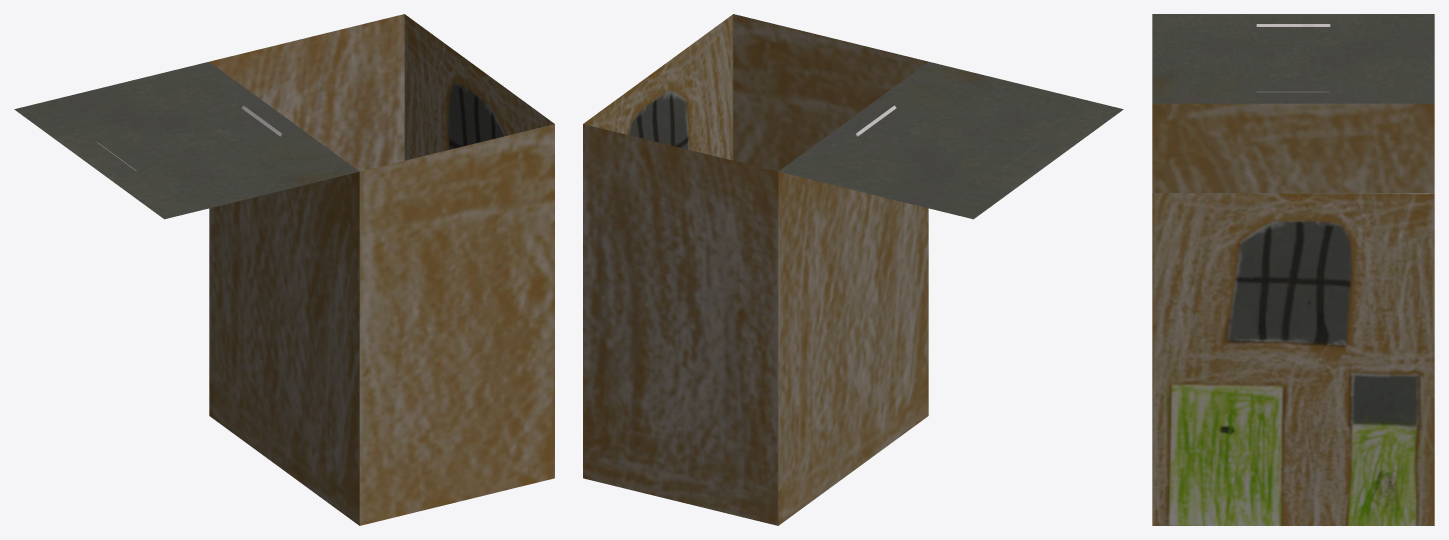
3 renders of one model, left to right at view 1: azimuth 30°, elevation 25°; view 2: azimuth 150°, elevation 25°; view 3: azimuth 270°, elevation 25°, orthographic. The views are drawn at different scales.
Parts seen in each view (by area): view 1: Cube, Cube.002, Cube.003; view 2: Cube, Cube.002, Cube.003; view 3: Cube, Cube.002, Cube.003.
Part boxes in pixels (x1,y1,x2,y2): Cube: [209, 124, 554, 525]; Cube.002: [14, 61, 359, 219]; Cube.003: [210, 14, 554, 171]; Cube: [583, 124, 928, 525]; Cube.002: [778, 61, 1123, 219]; Cube.003: [583, 14, 927, 171]; Cube: [1152, 193, 1434, 525]; Cube.002: [1152, 14, 1434, 103]; Cube.003: [1152, 103, 1434, 192].
Size of the model in its own units: 15 by 13.09 by 10.
1 material, 1 textured.
